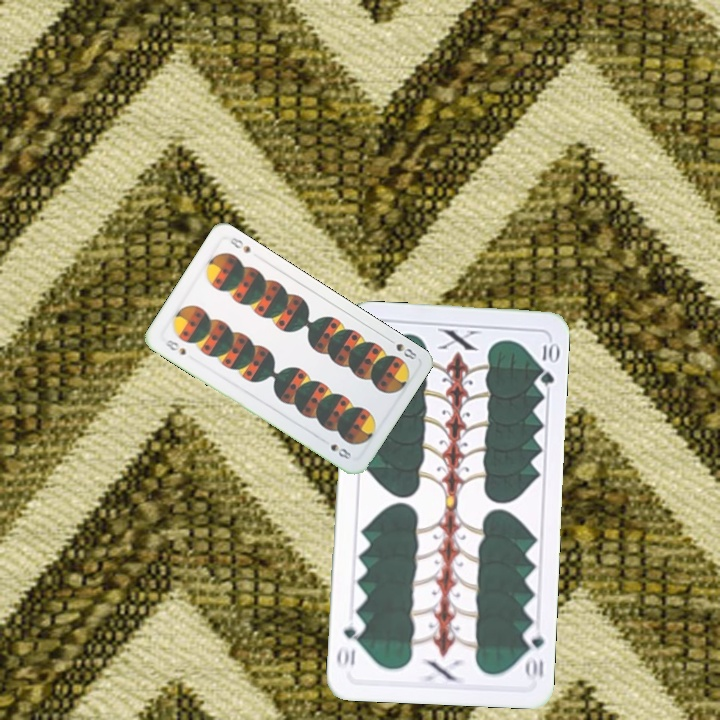G10: (520, 623, 547, 683)
S8: (383, 334, 419, 362), (161, 335, 189, 358)
